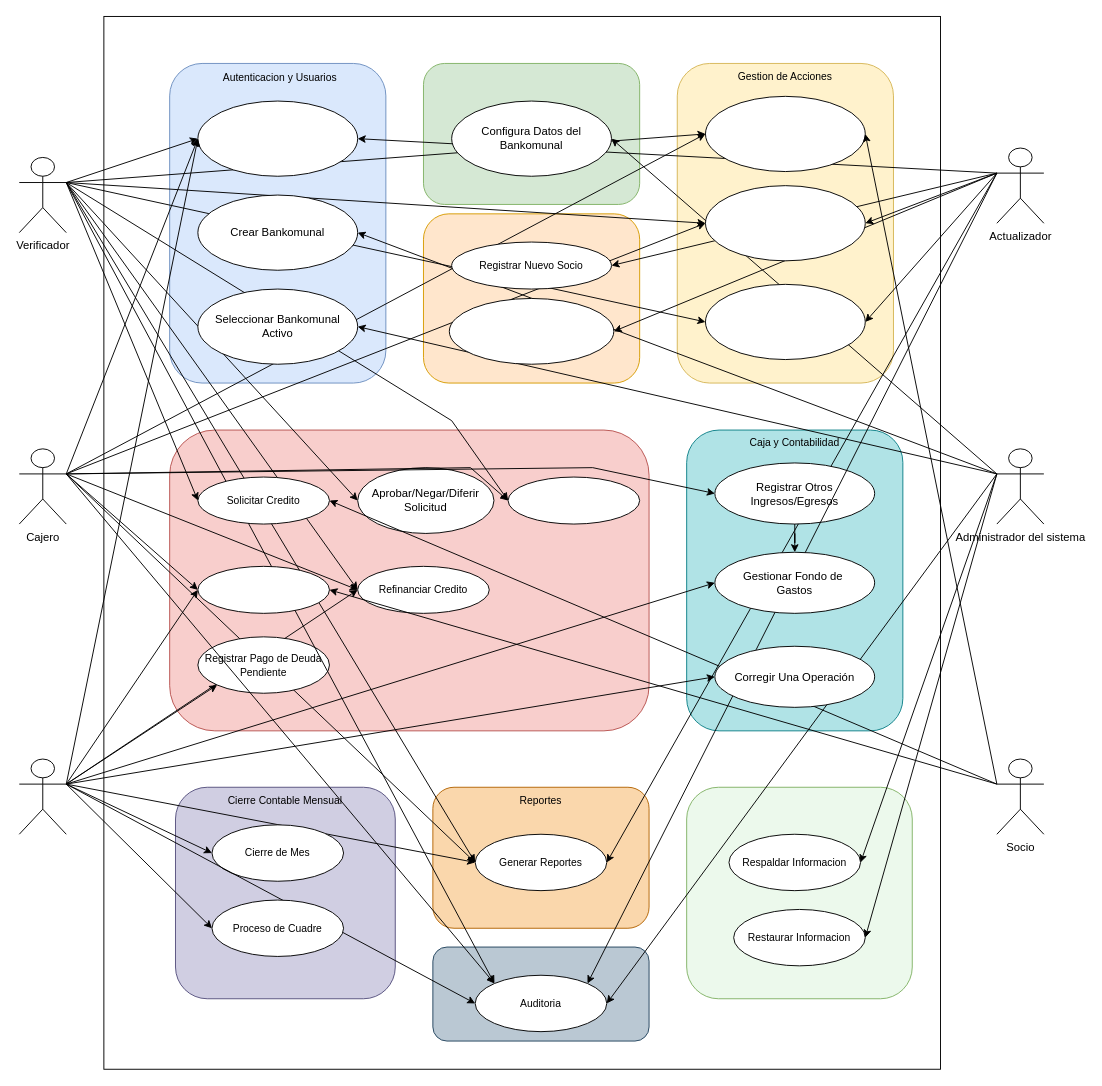
This 1102x1086 diagram has some shape labels left out. The shapes that lost their labels are listed below. From the top down, each one's box as (x1, y1, x2, y2) in pixels, then its label:
(197, 100, 358, 176): Iniciar Sesion
(423, 63, 640, 204): Configuracion del Bankomunal
(705, 95, 865, 172): Comprar Acciones
(705, 185, 865, 261): Liquidar Acciones
(423, 213, 640, 383): Gestion de Socios
(448, 298, 614, 364): Consultar/Actualizar Datos de Socio
(705, 283, 865, 360): Repartir Ganancias
(507, 476, 640, 524): Desembolso Credito
(197, 565, 329, 613): Registrar Pago de Cuota
(169, 429, 649, 731): Gestion de Creditos
(18, 758, 66, 834): Contable
(686, 786, 912, 999): Respaldo y Continuidad
(432, 946, 649, 1041): Auditoría y Trazabilidad
